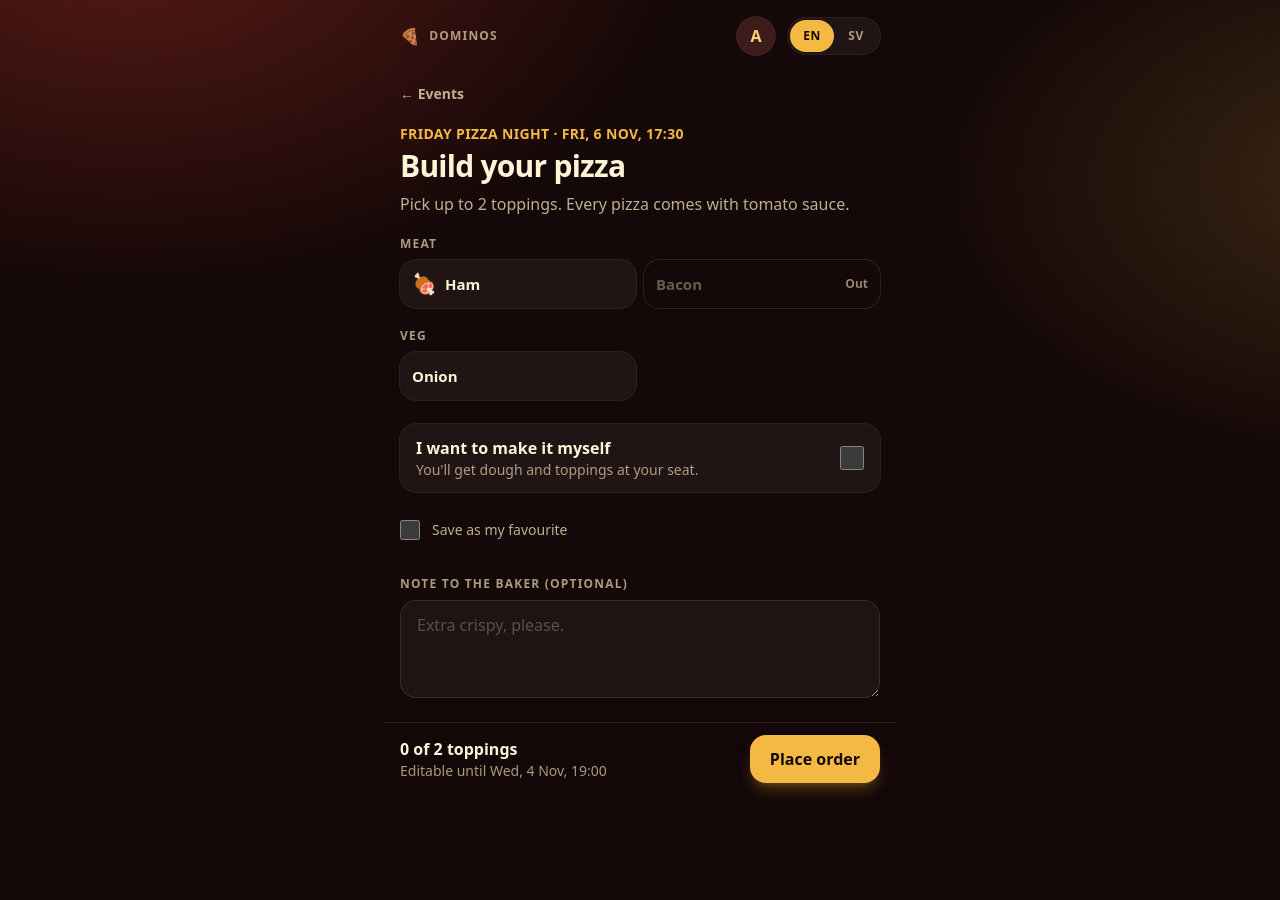
Scenario: building a pizza › picks toppings up to the limit, skips the ones out, and places the order
Check: the heading "Build your pizza" is shown, box [400,145,625,186]
Check: the text "Pick up to 2 toppings. Every pizza comes with tomato sauce." is shown, box [400,192,880,216]
Click the button "🍖 Ham". click: (518, 284)
box: [400,260,636,308]
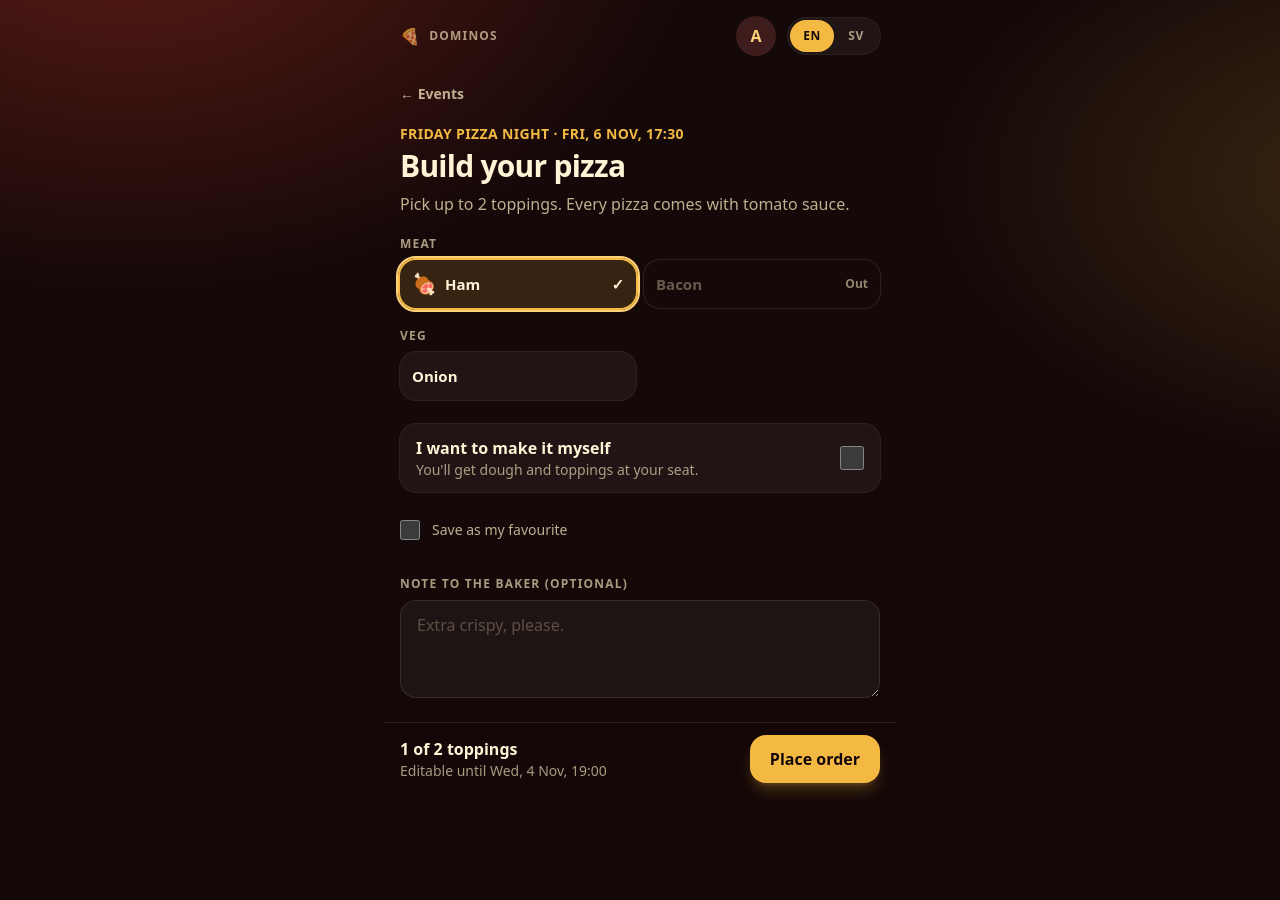
Click the button "Onion". click: (518, 376)
box: [400,352,636,400]
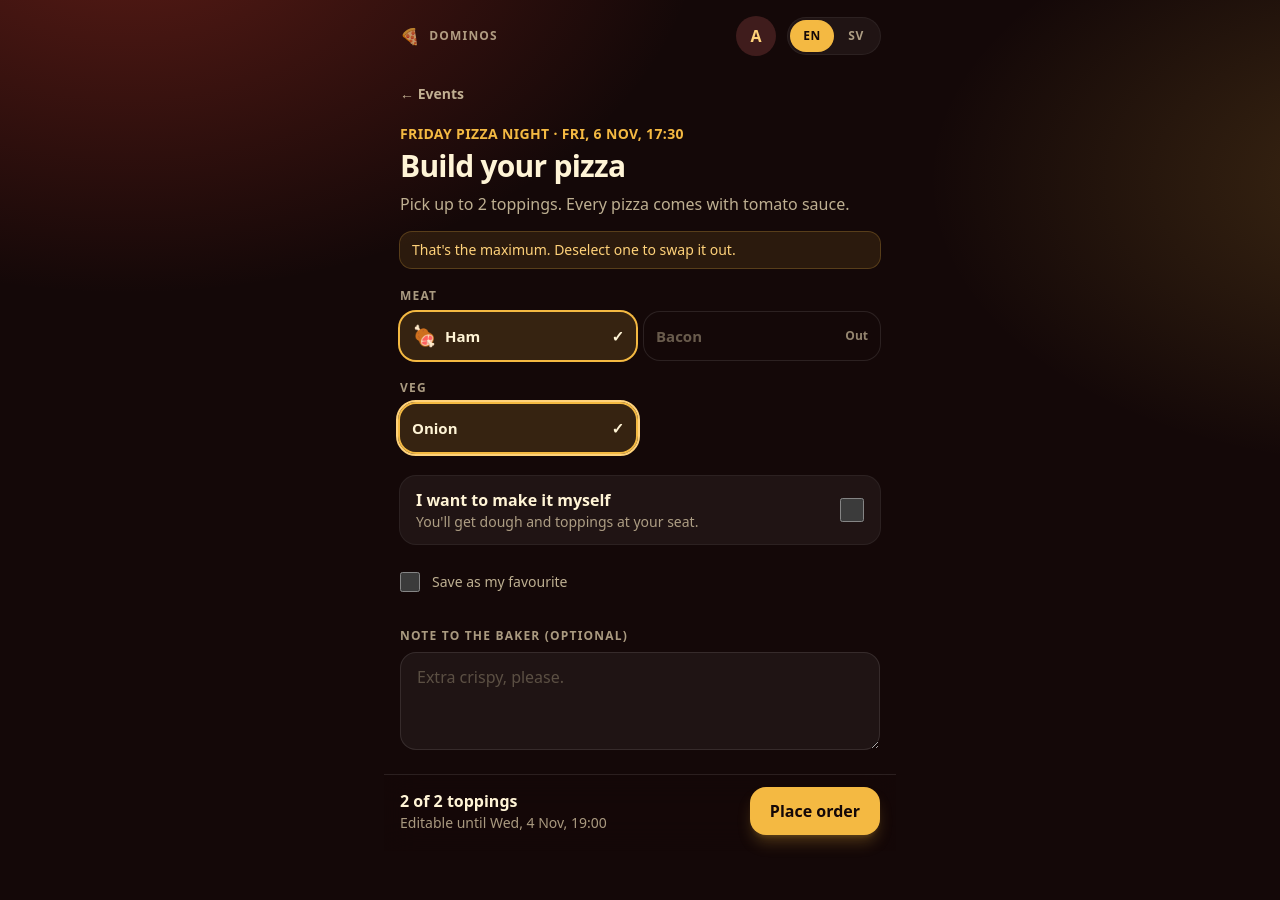
Check: the text "That's the maximum. Deselect one to swap it out." is shown, box [400,232,880,268]
Check: the text "2 of 2 toppings" is shown, box [400,790,518,812]
Click the switch labelled "make it myself". click: (852, 510)
box: [840,498,864,522]
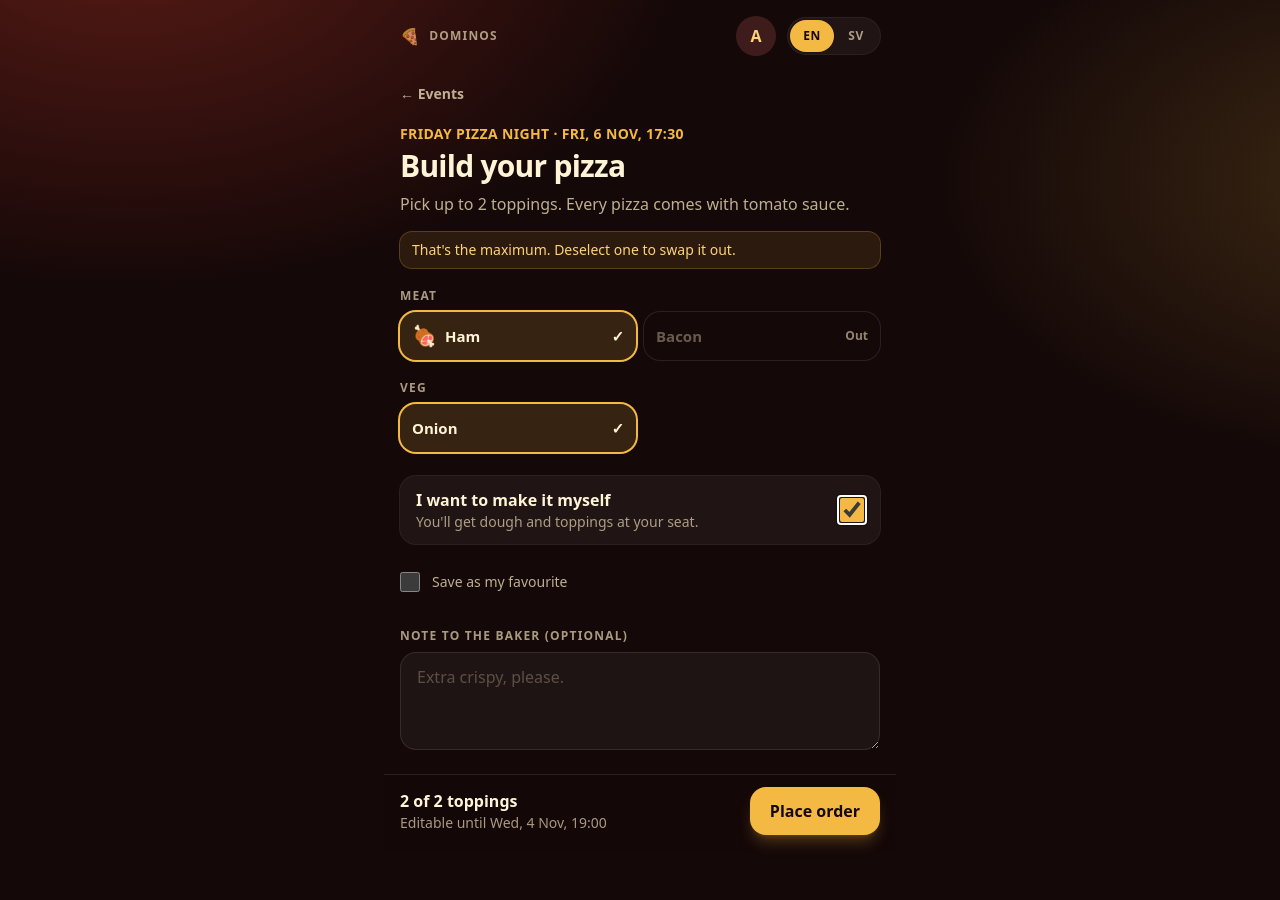
Type "Extra crispy" into the text box labelled "Note to the baker (optional)". click: (640, 701)
box: [400,652,880,750]
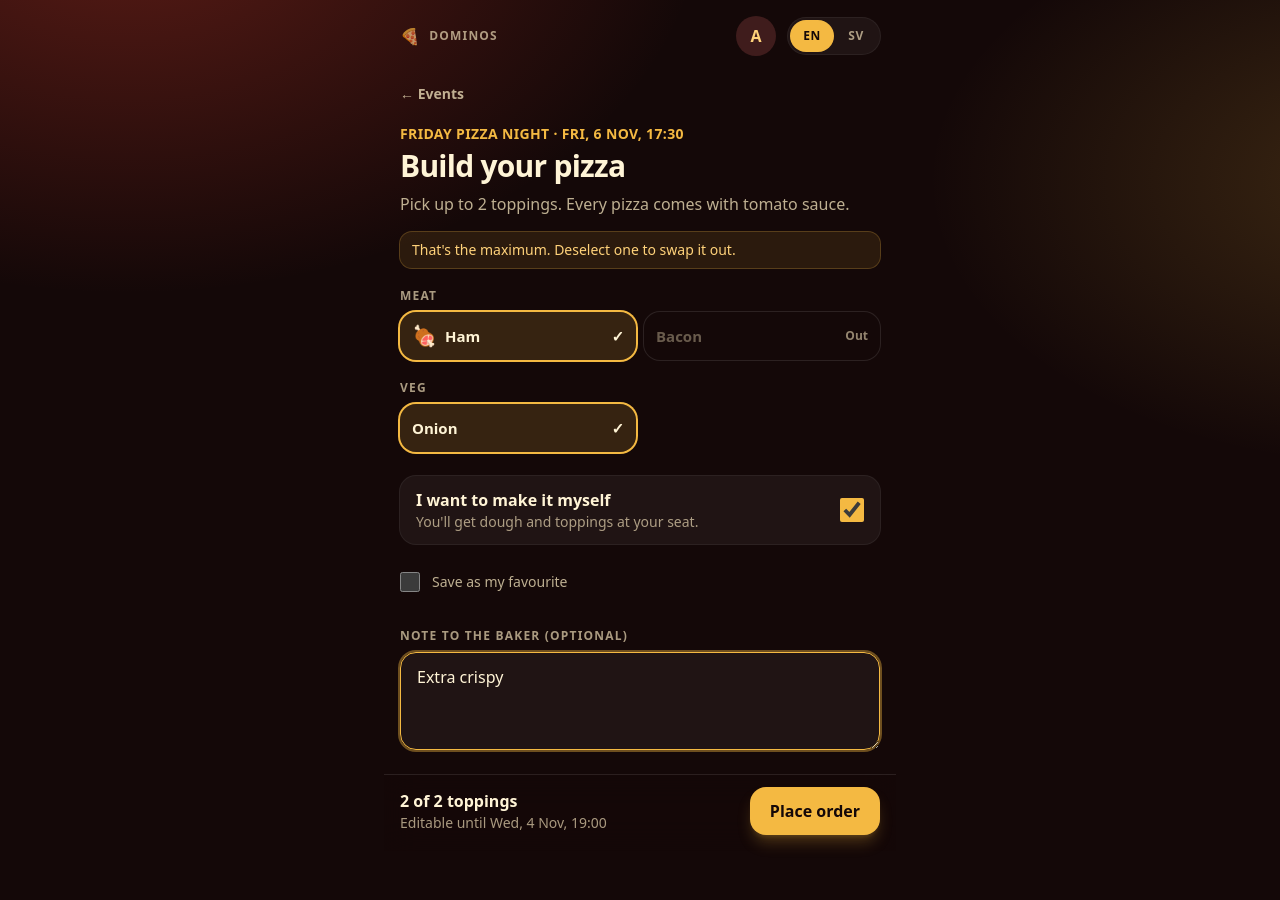
Click the button "Place order". click: (815, 811)
box: [750,787,880,835]
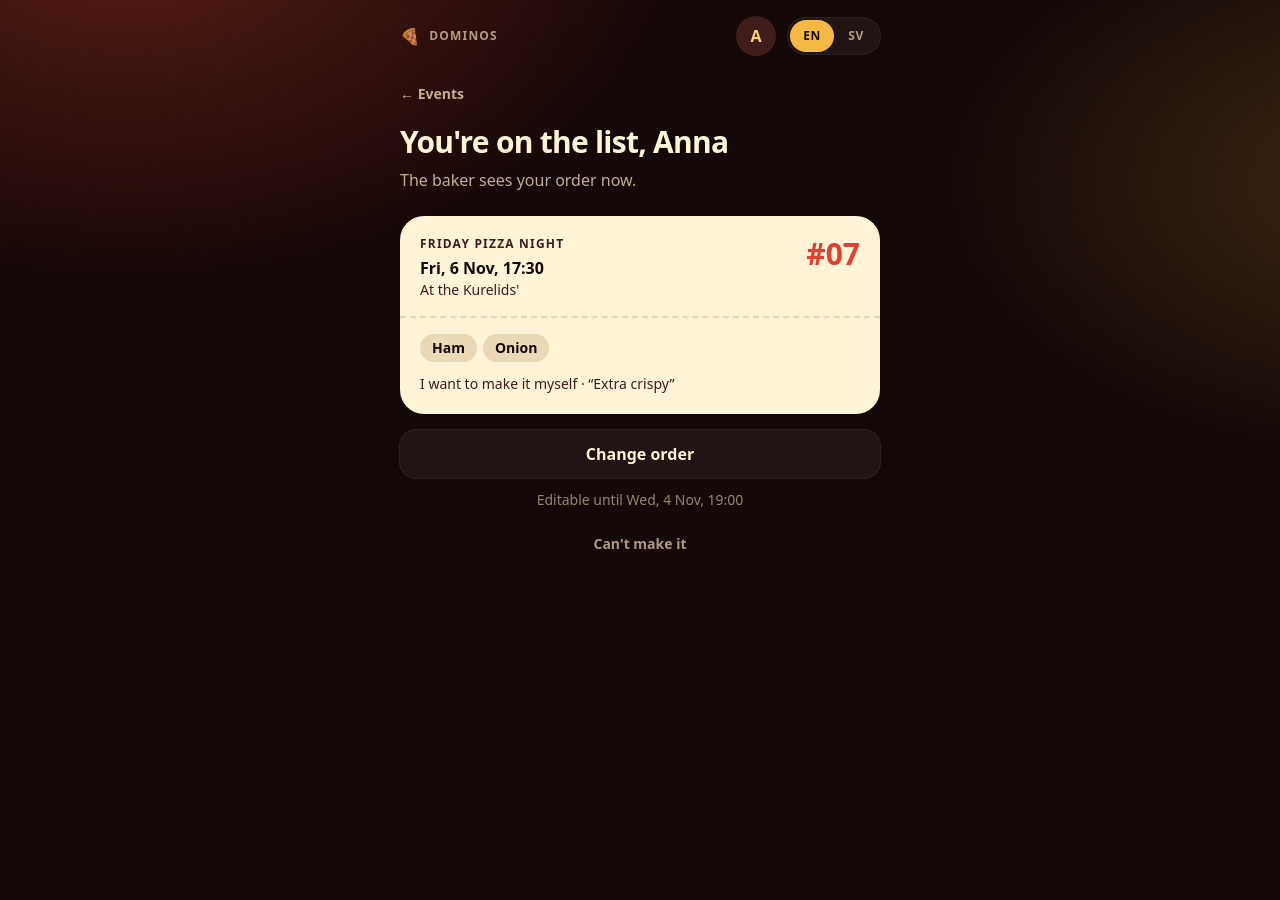
Check: the list item "Ham" is shown, box [420,334,477,362]
Check: the heading "You're on the list, Anna" is shown, box [400,121,728,162]
Check: the text "#07" is shown, box [806,236,860,272]
